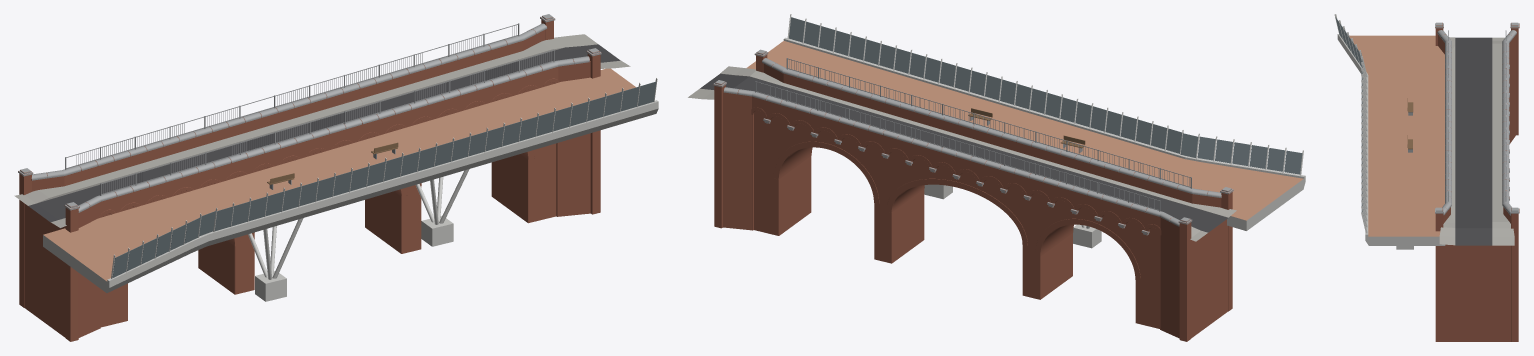
File: verrewinkel.glb
3 renders of one model, left to right at view 1: azimuth 30°, elevation 25°; view 2: azimuth 150°, elevation 25°; view 3: azimuth 270°, elevation 25°, orthographic. The views are drawn at different scales.
Parts seen in each view (by area): view 1: verrewinkel, verrewinkel_foot, verrewinkel_fine; view 2: verrewinkel, verrewinkel_foot, verrewinkel_fine; view 3: verrewinkel, verrewinkel_foot.
Part boxes in pixels (<box>): verrewinkel: <box>14,14,630,341</box>; verrewinkel_foot: <box>43,23,658,301</box>; verrewinkel_fine: <box>99,78,558,246</box>; verrewinkel: <box>688,49,1236,341</box>; verrewinkel_foot: <box>746,14,1305,248</box>; verrewinkel_fine: <box>751,107,1161,281</box>; verrewinkel: <box>1435,22,1519,341</box>; verrewinkel_foot: <box>1334,14,1506,249</box>.
Size of the model in its own units: 43.85 by 11.96 by 14.81.
